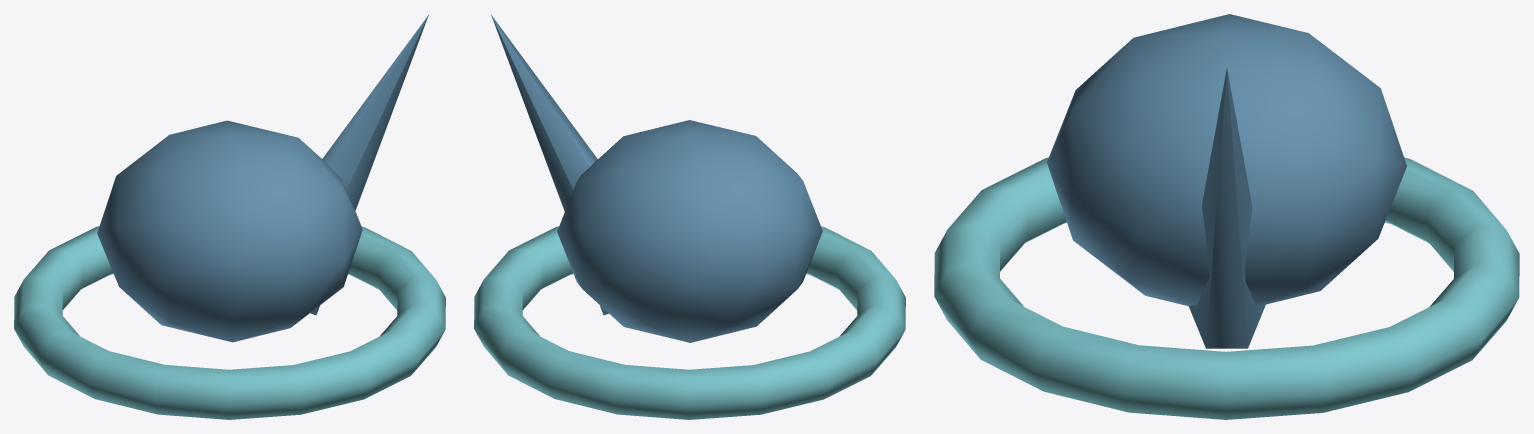
File: wpn_r_01.glb
3 views of the same model, side by side, from view 1: azimuth 30°, elevation 25°; view 2: azimuth 150°, elevation 25°; view 3: azimuth 270°, elevation 25° (orthographic). The views are drawn at different scales.
Visible parts, largest first — view 1: impact_core, impact_ring, impact_ray; view 2: impact_core, impact_ring, impact_ray; view 3: impact_core, impact_ring, impact_ray.
Part boxes in pixels (<box>): impact_core: <box>97,120,362,342</box>; impact_ring: <box>14,226,445,419</box>; impact_ray: <box>310,15,428,315</box>; impact_core: <box>557,120,822,342</box>; impact_ring: <box>474,226,905,419</box>; impact_ray: <box>491,15,608,315</box>; impact_core: <box>1047,14,1406,305</box>; impact_ring: <box>934,157,1519,419</box>; impact_ray: <box>1188,68,1265,348</box>.
Size of the model in its own units: 0.697 by 0.4681 by 0.6701.
